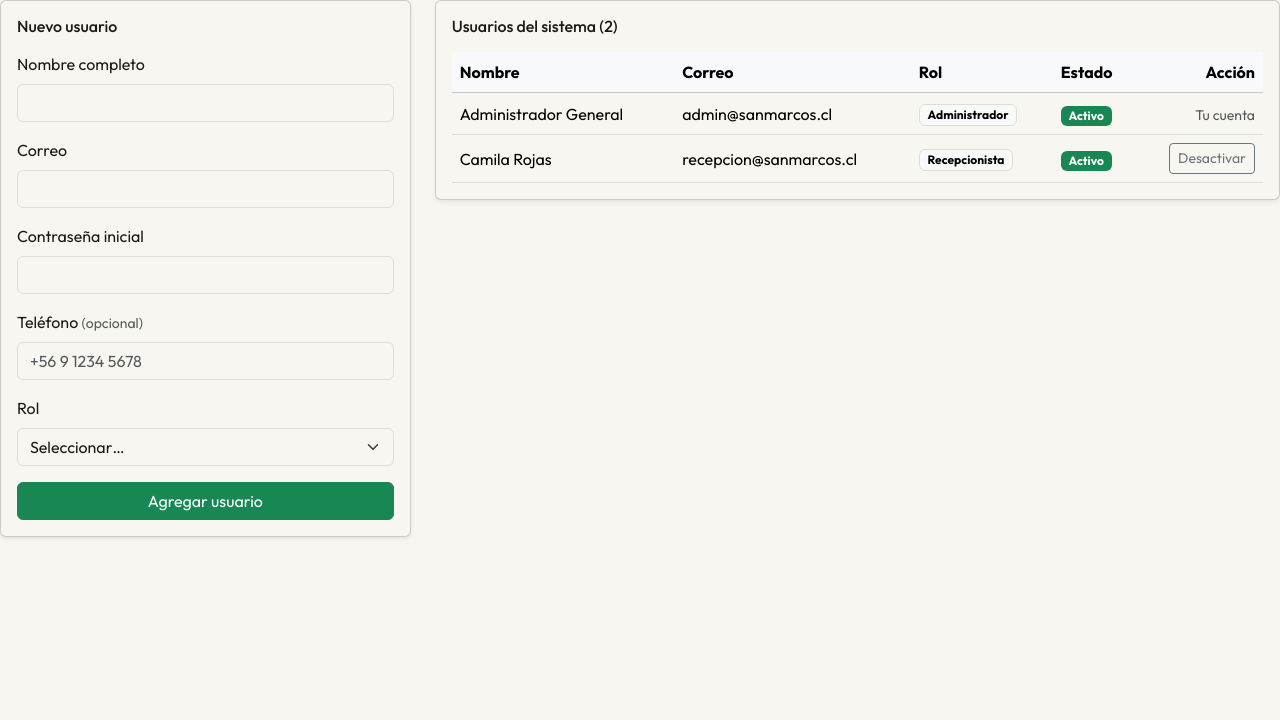
UsuariosPanel (formulario con validación) › con datos válidos llama onAgregar y limpia el formulario
Step 1. Type "Juan Pérez" into the field labelled "Nombre completo" → [205, 103], box x1=17 y1=84 x2=394 y2=122
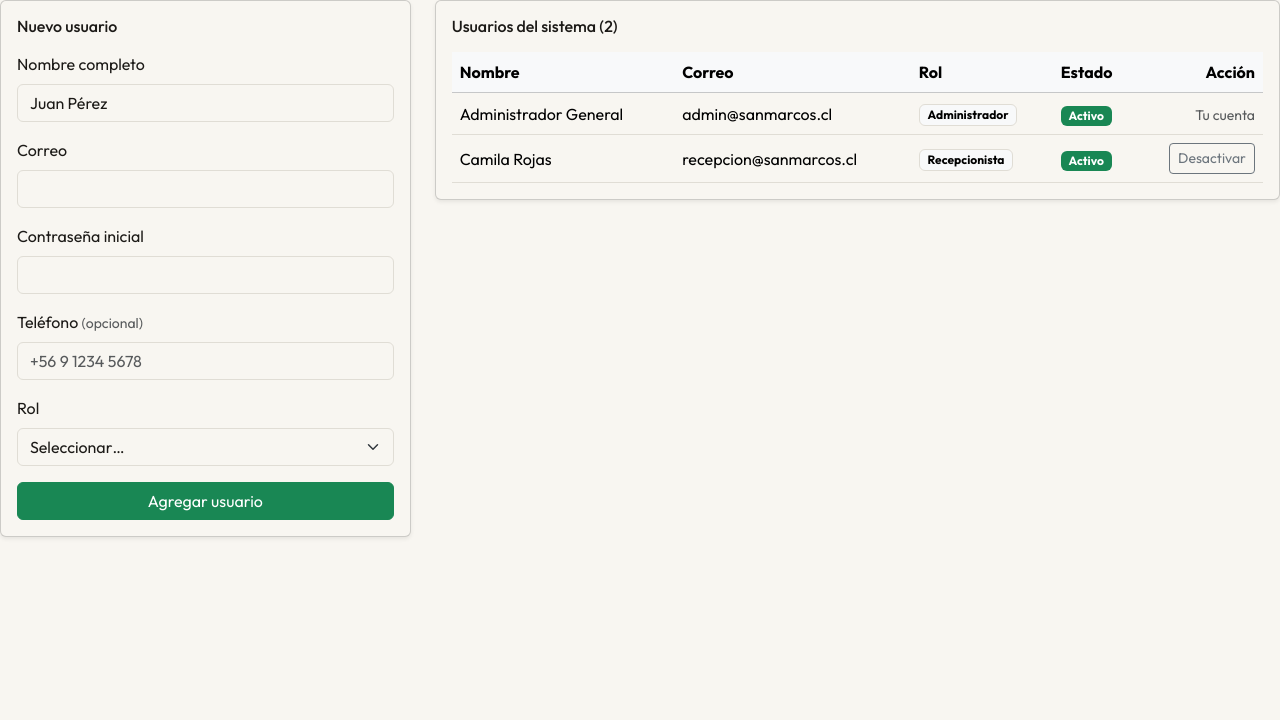
Step 2. Type "juan@correo.cl" into the field labelled "Correo" → [205, 189], box x1=17 y1=170 x2=394 y2=208
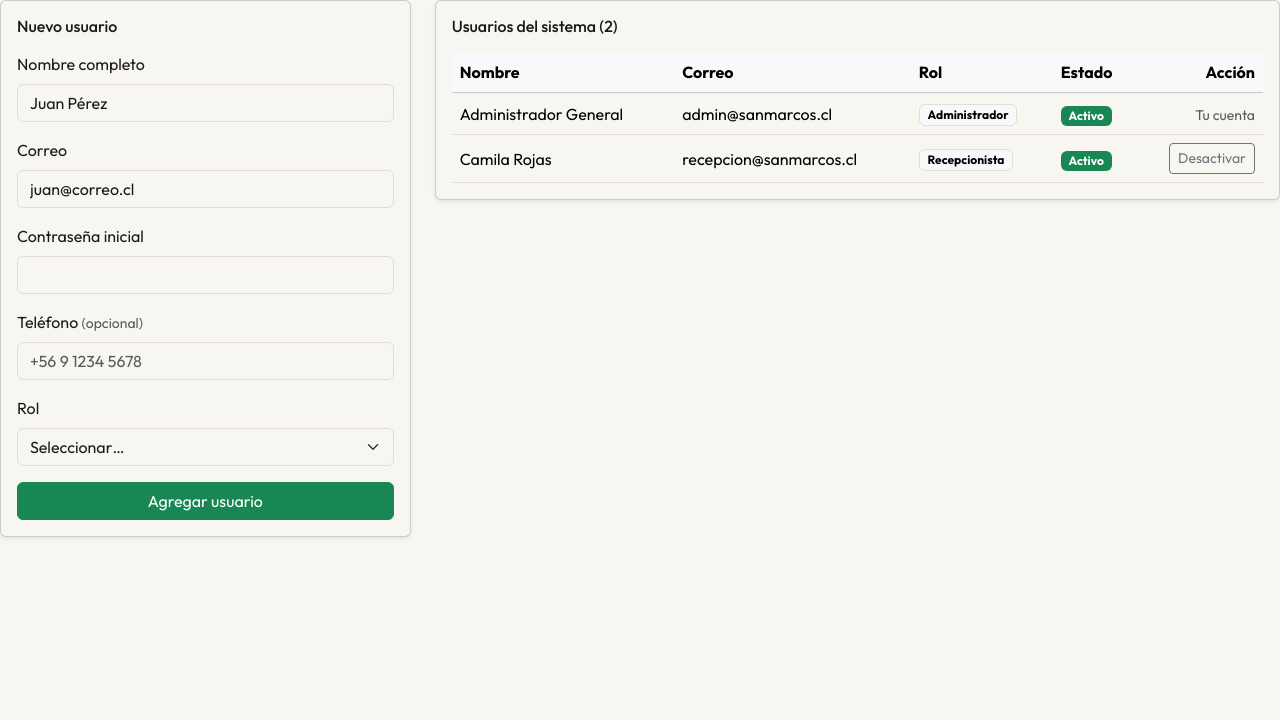
Step 3. Type "Clave1234" into the password field labelled "Contraseña inicial" → [205, 275], box x1=17 y1=256 x2=394 y2=294
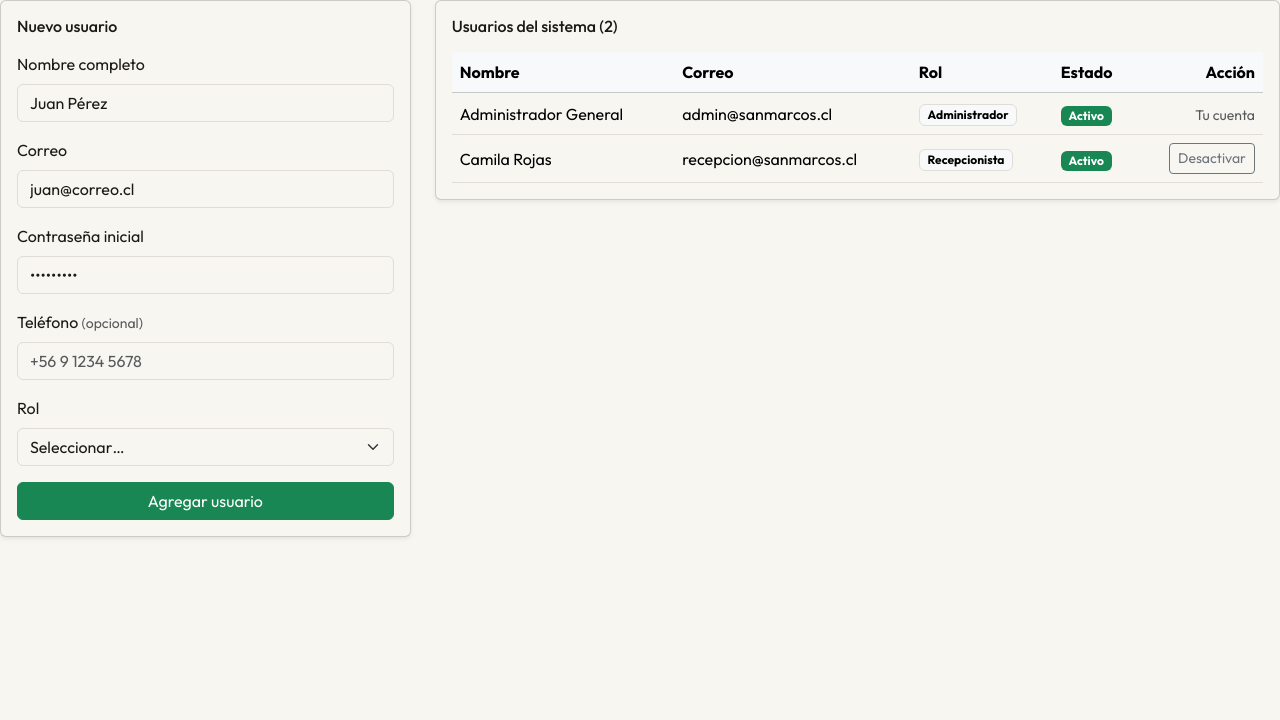
Step 4. Select "Recepcionista" in the dropdown labelled "Rol" → [205, 447], box x1=17 y1=428 x2=394 y2=466
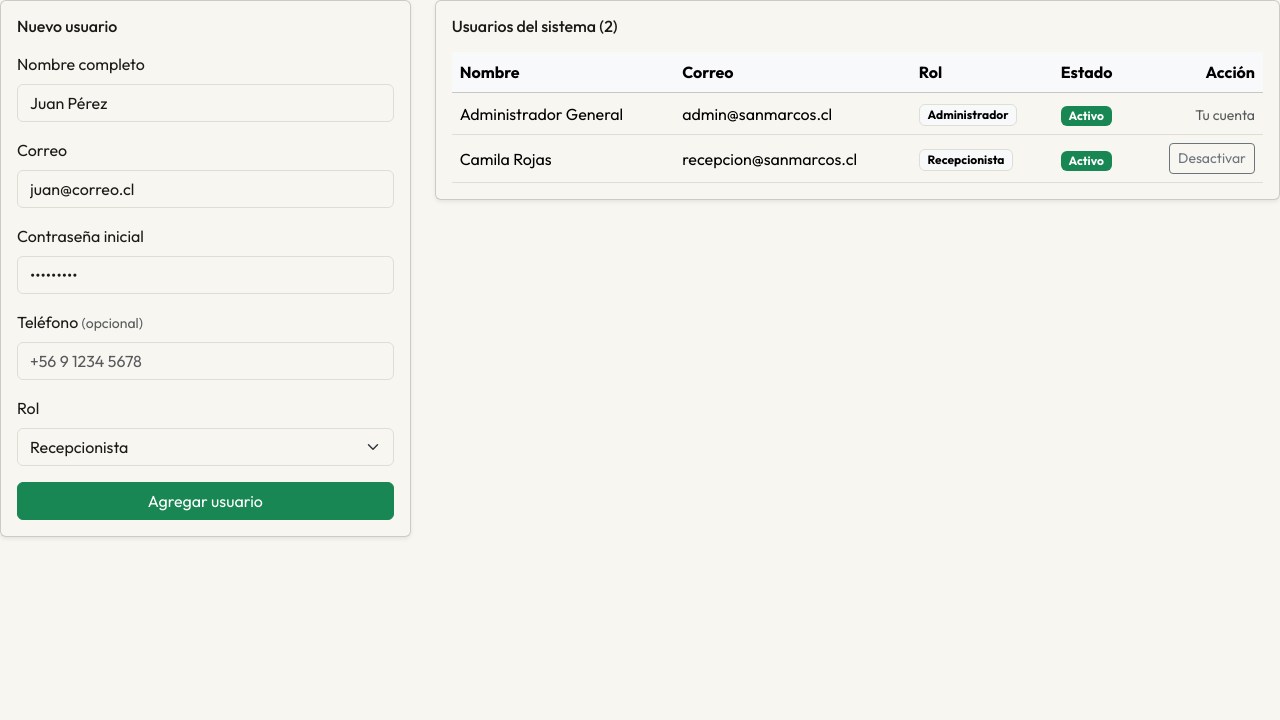
Step 5. Submit the form "Nuevo usuario", box x1=0 y1=0 x2=411 y2=537
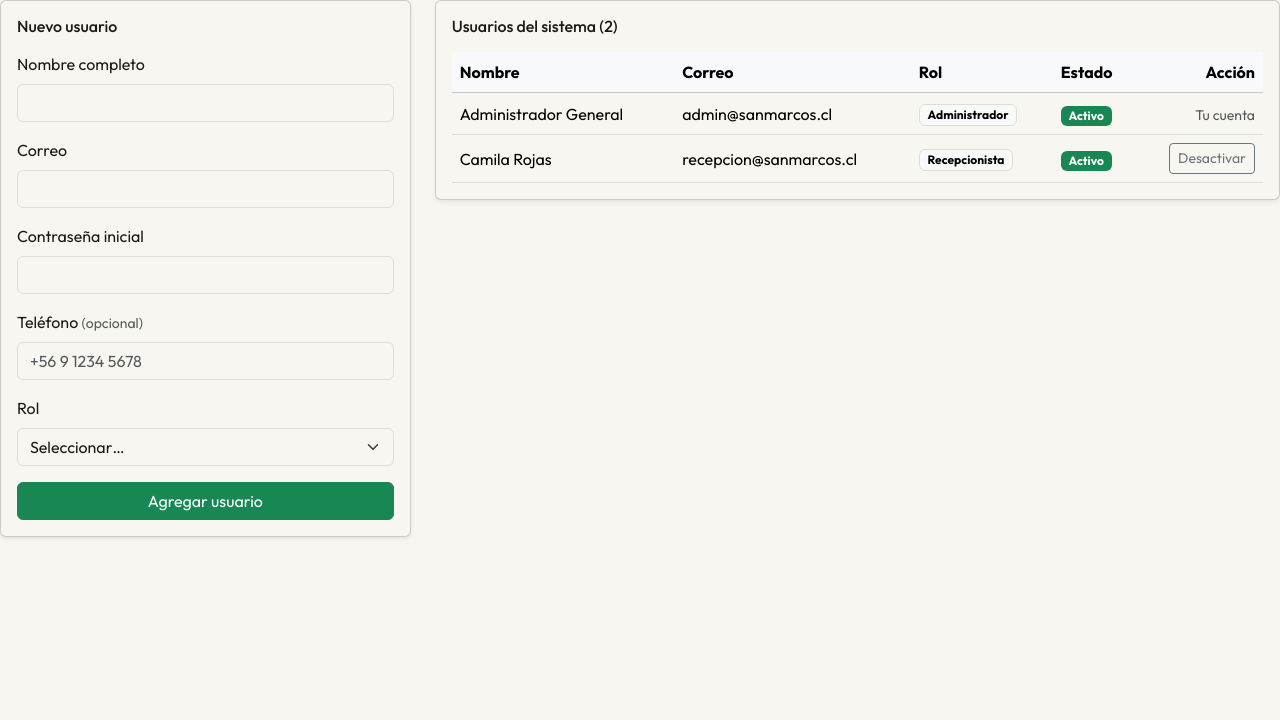
Expected: the field labelled "Nombre completo" is empty, x1=17 y1=84 x2=394 y2=122
